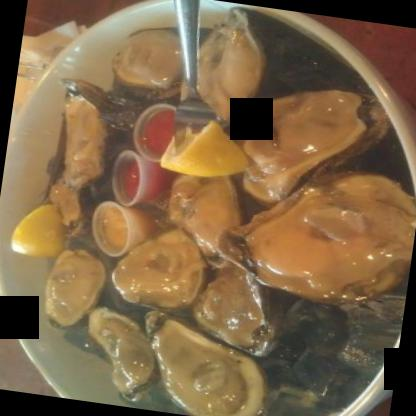oyster: (211, 151, 415, 315), (216, 75, 384, 222), (139, 309, 277, 415), (183, 7, 271, 120), (75, 302, 167, 410), (102, 224, 210, 315), (184, 250, 278, 354), (99, 18, 204, 102)
